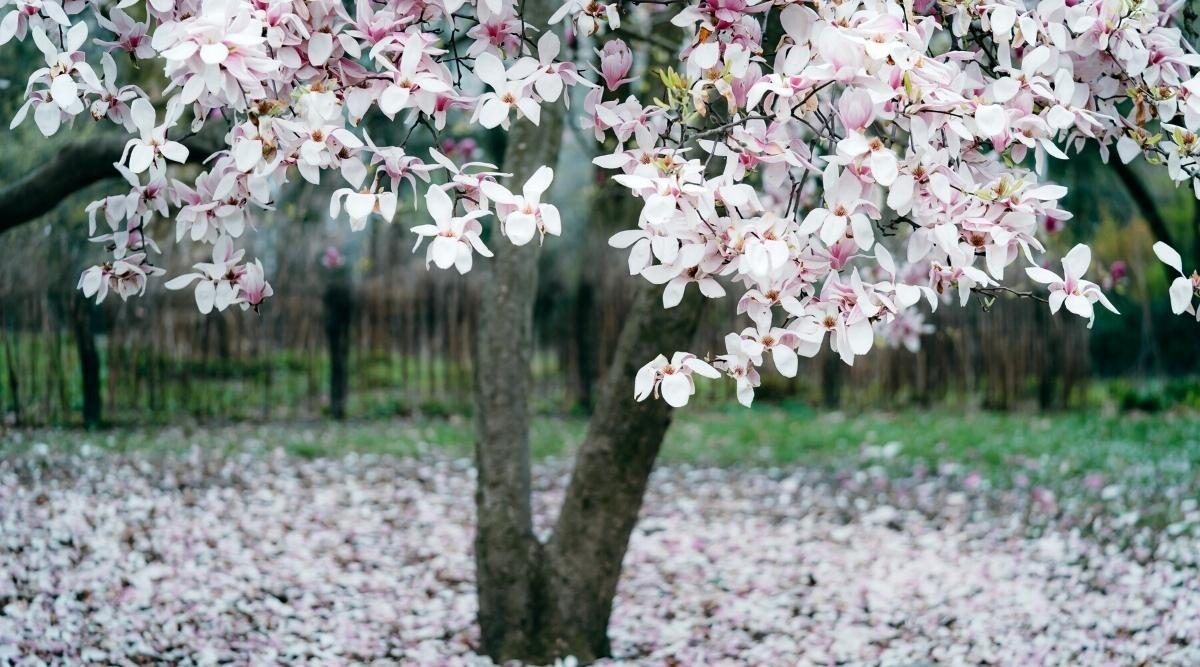tree: (457, 215, 695, 658)
